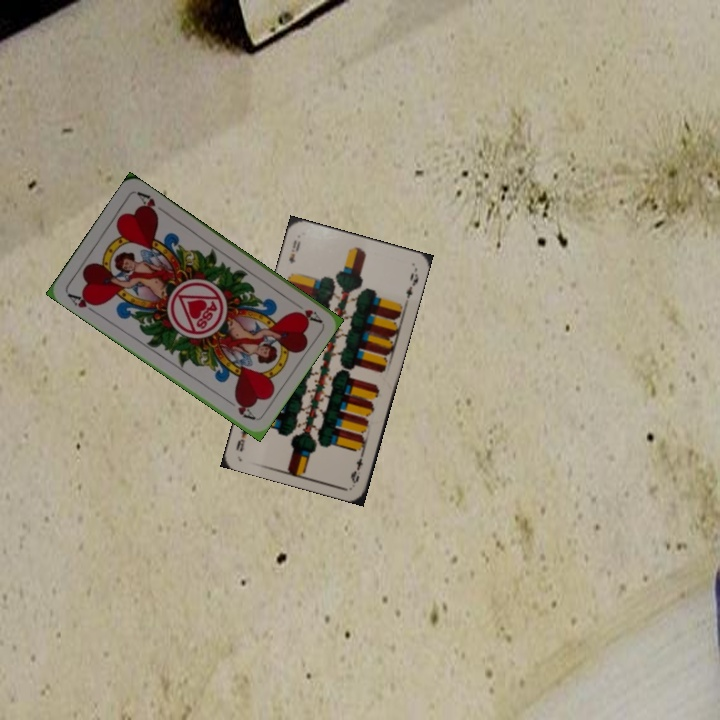E9: (346, 447, 367, 486), (285, 236, 303, 266)
HA: (63, 289, 101, 317), (292, 305, 324, 325)
